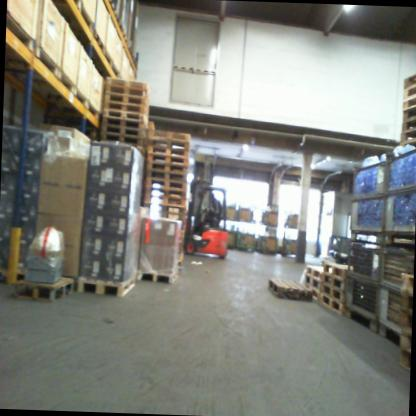forklift: (181, 175, 238, 257)
pallet: (73, 270, 137, 305), (13, 275, 74, 306), (104, 77, 153, 103), (267, 277, 314, 303), (104, 89, 151, 115), (105, 84, 151, 104), (104, 103, 150, 123), (138, 266, 180, 286), (101, 122, 144, 139), (102, 107, 144, 123), (150, 127, 191, 143), (144, 153, 188, 167), (148, 143, 189, 158), (101, 117, 144, 131), (143, 178, 186, 192), (321, 283, 347, 305), (322, 258, 347, 280), (102, 133, 144, 146), (145, 160, 187, 173), (151, 137, 191, 150), (145, 193, 184, 206), (320, 273, 346, 292), (319, 296, 346, 313), (145, 209, 183, 221), (145, 170, 185, 181), (142, 204, 184, 214), (305, 264, 325, 282), (303, 275, 324, 291), (145, 189, 185, 197), (402, 63, 416, 85), (305, 283, 321, 302), (401, 273, 413, 296), (400, 291, 413, 312), (399, 310, 413, 329), (402, 104, 416, 123), (403, 95, 416, 112), (403, 128, 416, 145), (400, 331, 410, 353), (399, 352, 409, 372), (403, 87, 416, 101), (403, 118, 416, 132)
stillage: (340, 235, 383, 349), (375, 244, 414, 359), (349, 157, 391, 241), (381, 142, 415, 243), (256, 226, 279, 255), (259, 206, 283, 229), (236, 199, 258, 224), (235, 230, 256, 250), (221, 201, 235, 229), (223, 231, 236, 249)
